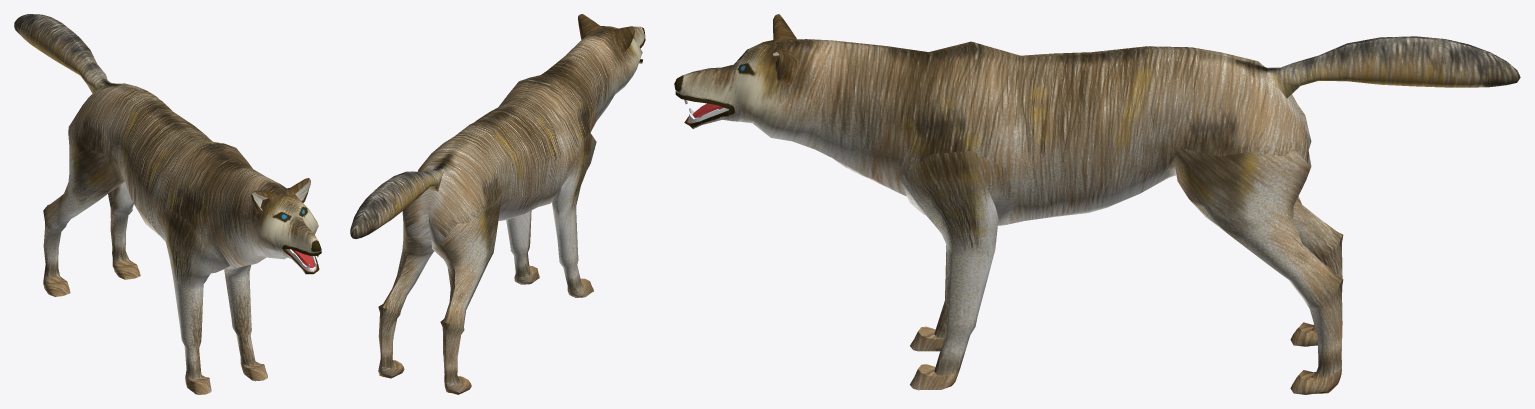
Rendered from wolf.obj.
The picture shows the model from 3 angles, left to right: view 1: azimuth 30°, elevation 25°; view 2: azimuth 150°, elevation 25°; view 3: azimuth 270°, elevation 25°; orthographic projection. The views are drawn at different scales.
Parts seen in each view (by area): view 1: Wolf1; view 2: Wolf1; view 3: Wolf1.
Part boxes in pixels (left/top/right/bottom): Wolf1: left=14, top=14, right=321, bottom=394; Wolf1: left=350, top=14, right=645, bottom=394; Wolf1: left=674, top=14, right=1520, bottom=394.
Size of the model in its own units: 3.05 by 7.68 by 17.65.
